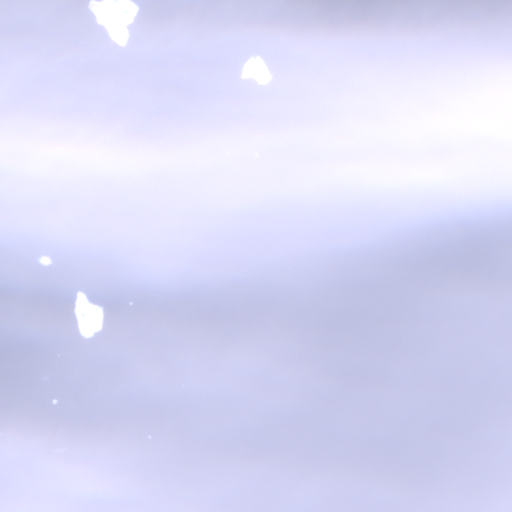Iceberg: (89, 0, 138, 47), (74, 291, 103, 337), (241, 56, 271, 84), (39, 257, 52, 265), (53, 399, 57, 403), (130, 302, 132, 304), (148, 436, 150, 437)
